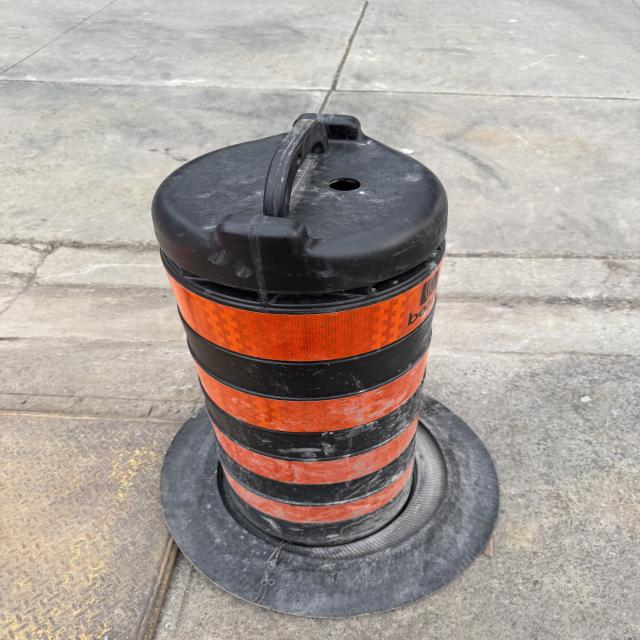Teraffic Barrel: (153, 114, 497, 615)
